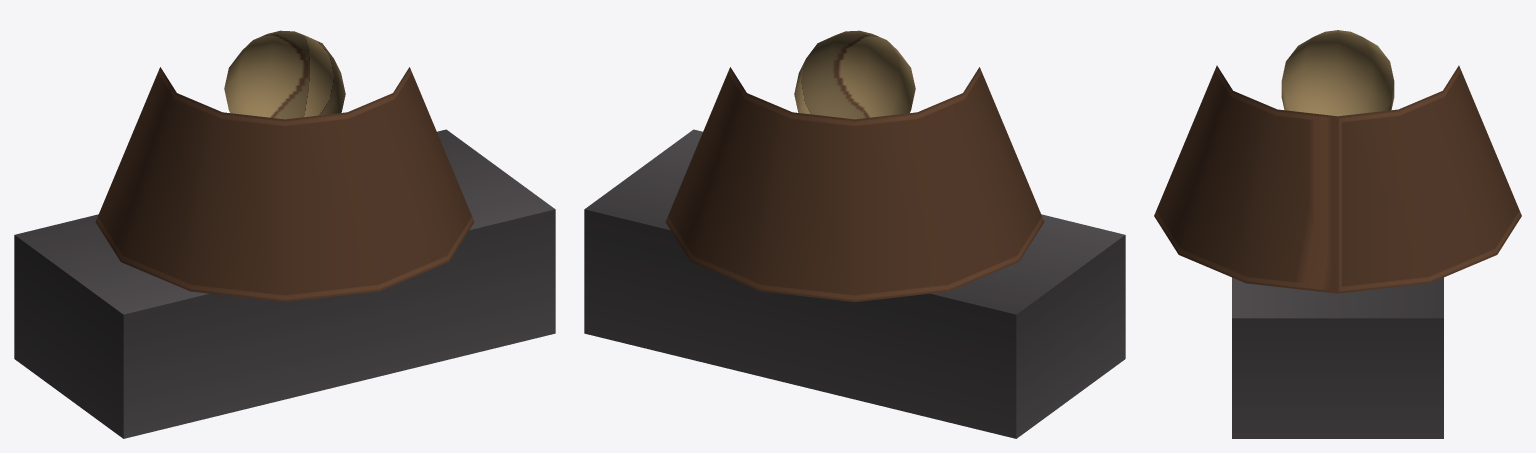
File: prison_lever_bank.glb
3 renders of one model, left to right at view 1: azimuth 30°, elevation 25°; view 2: azimuth 150°, elevation 25°; view 3: azimuth 270°, elevation 25°, orthographic. The views are drawn at different scales.
Parts seen in each view (by area): view 1: prison_lever_bank; view 2: prison_lever_bank; view 3: prison_lever_bank.
Part boxes in pixels (x1,y1,x2,y2): prison_lever_bank: (14, 30, 555, 438); prison_lever_bank: (584, 30, 1125, 438); prison_lever_bank: (1154, 30, 1521, 438).
Size of the model in its own units: 1.6 by 1.1 by 1.22.
1 material, 1 textured.
